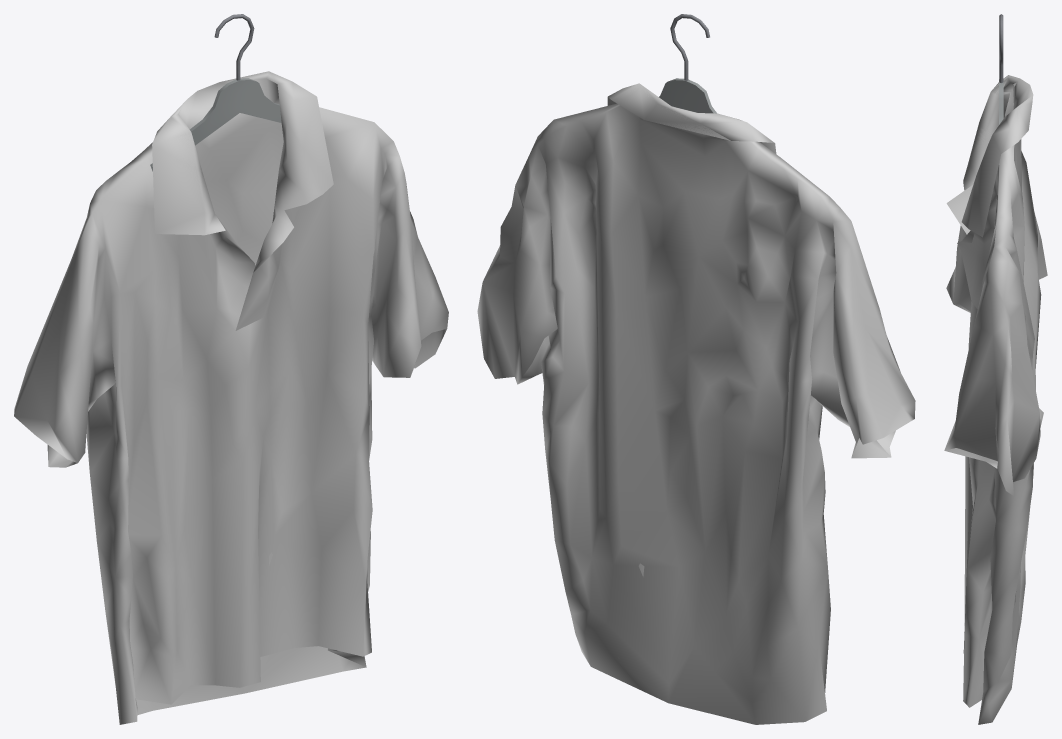
The model's file is poloShirt.FBX.
3 views of the same model, side by side, from view 1: azimuth 30°, elevation 25°; view 2: azimuth 150°, elevation 25°; view 3: azimuth 270°, elevation 25° (orthographic). The views are drawn at different scales.
Visible parts, largest first — view 1: poloshirt_LOD0, _Hanger-5_LOD0; view 2: poloshirt_LOD0, _Hanger-5_LOD0; view 3: poloshirt_LOD0, _Hanger-5_LOD0.
Boxes of the visible parts, left/top/right/bottom form: poloshirt_LOD0: left=14, top=71, right=448, bottom=724; _Hanger-5_LOD0: left=150, top=14, right=281, bottom=171; poloshirt_LOD0: left=477, top=83, right=915, bottom=724; _Hanger-5_LOD0: left=659, top=14, right=717, bottom=113; poloshirt_LOD0: left=944, top=75, right=1047, bottom=724; _Hanger-5_LOD0: left=999, top=14, right=1003, bottom=164.
Size of what is drawn, in the model's own units: 50.39 by 11.04 by 78.28.
